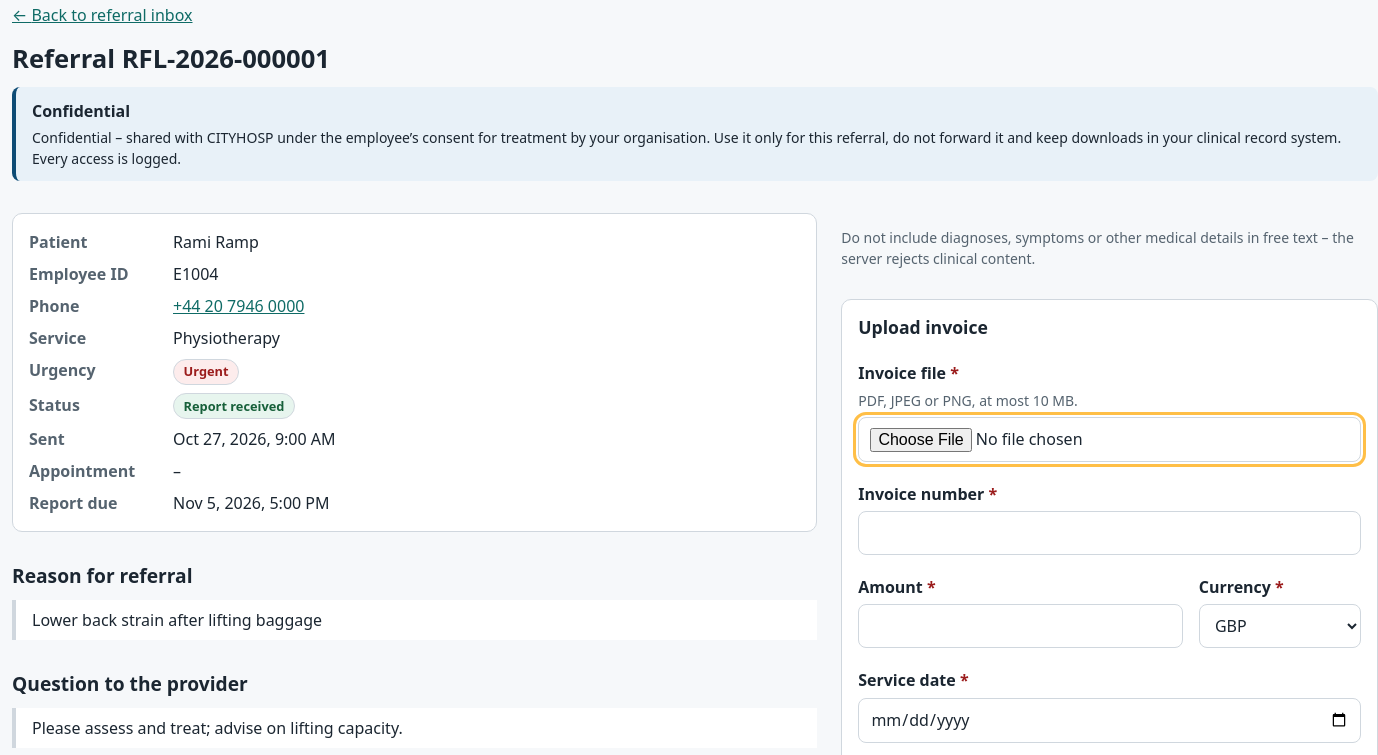
Test: referral detail › uploads an invoice with amount, currency and service date
Earlier steps of the test are not shown.
In the field labelled "Invoice number *": (1110, 533) [858,511,1361,555], type "INV-2026-77"
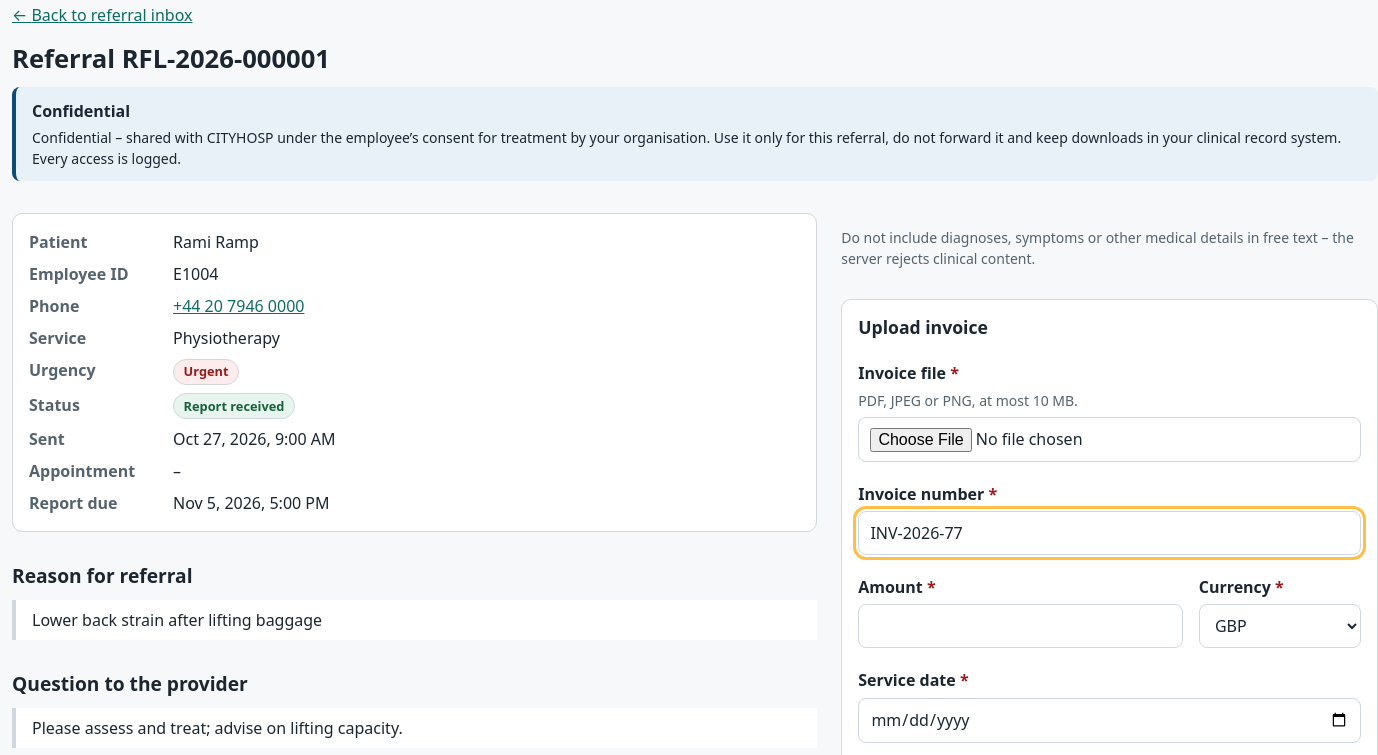
In the field labelled "Amount *": (1020, 626) [858,604,1183,648], type "420.5"
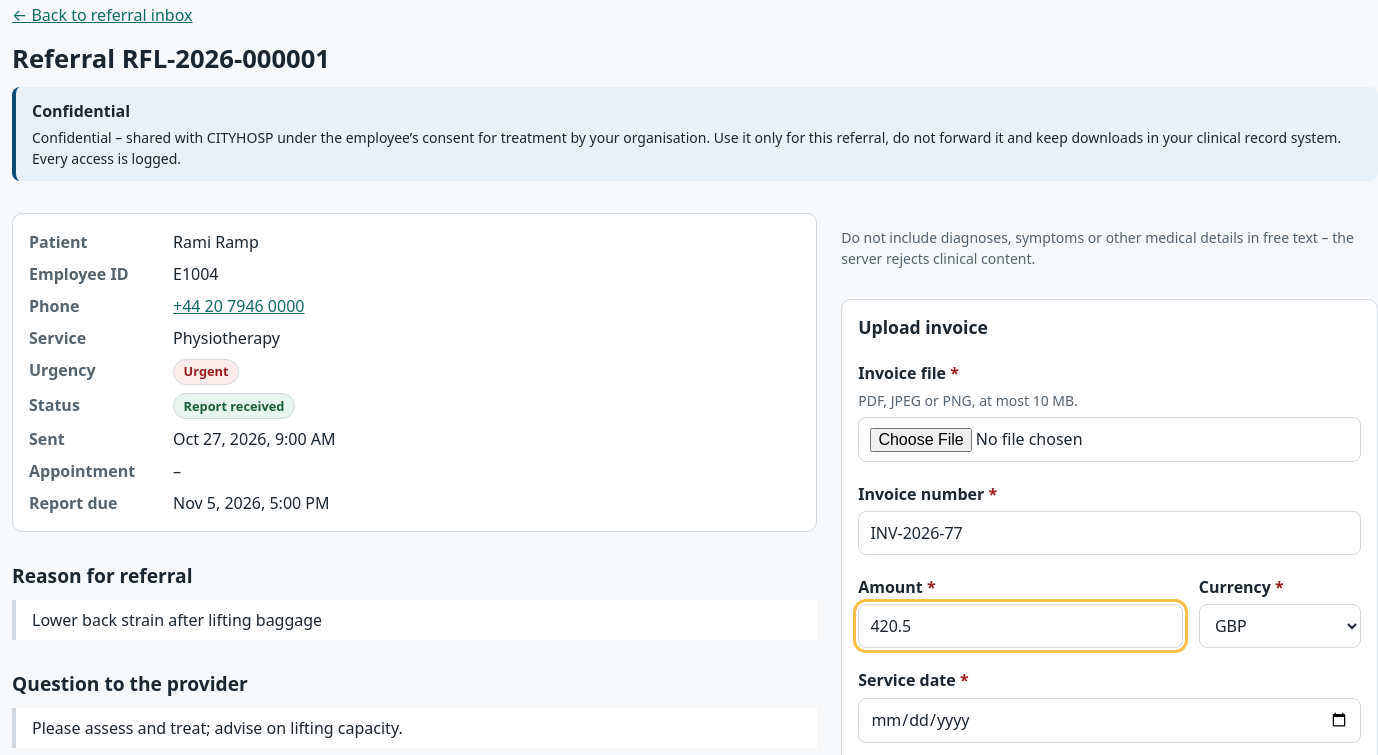
Select "AED" in the dropdown labelled "Currency *": (1280, 626) [1199,604,1361,648]
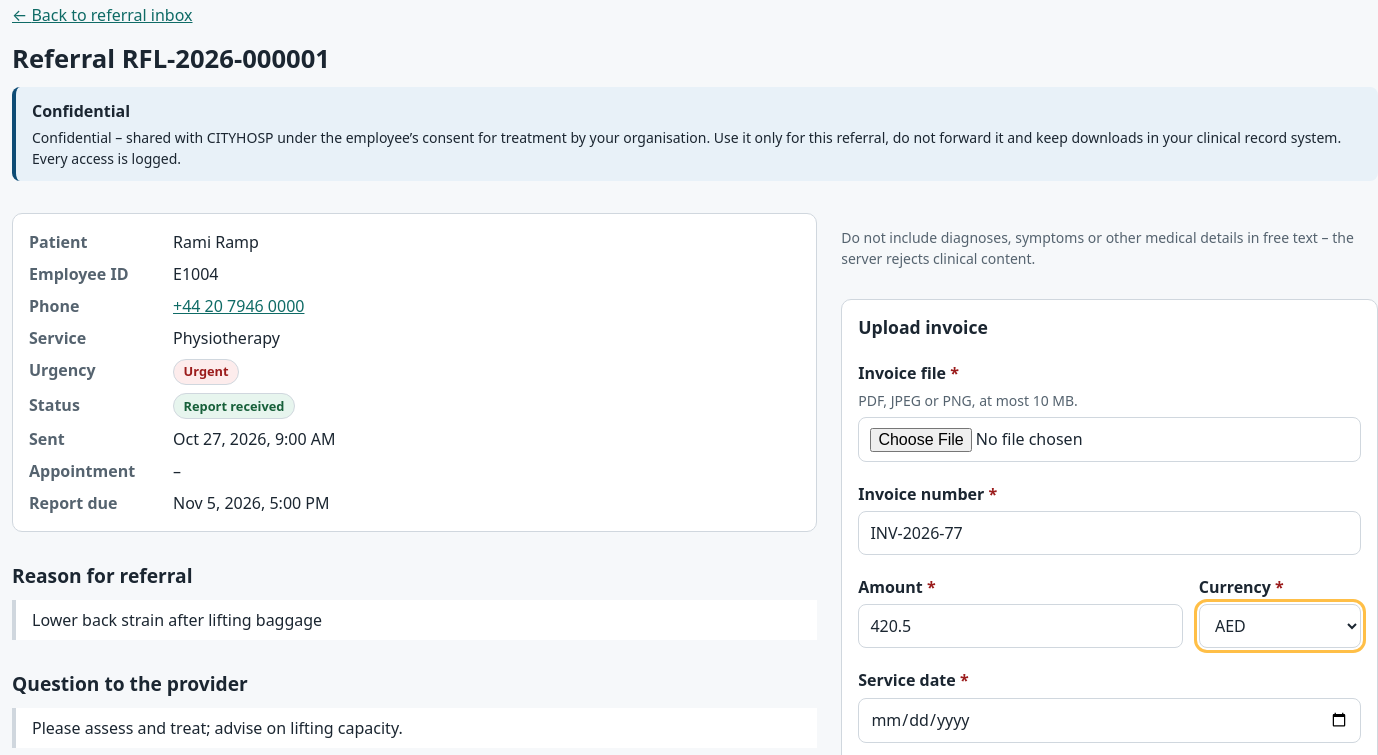
In the date field labelled "Service date *": (1110, 720) [858,698,1361,743], type "2026-10-20"
(page scrolled)
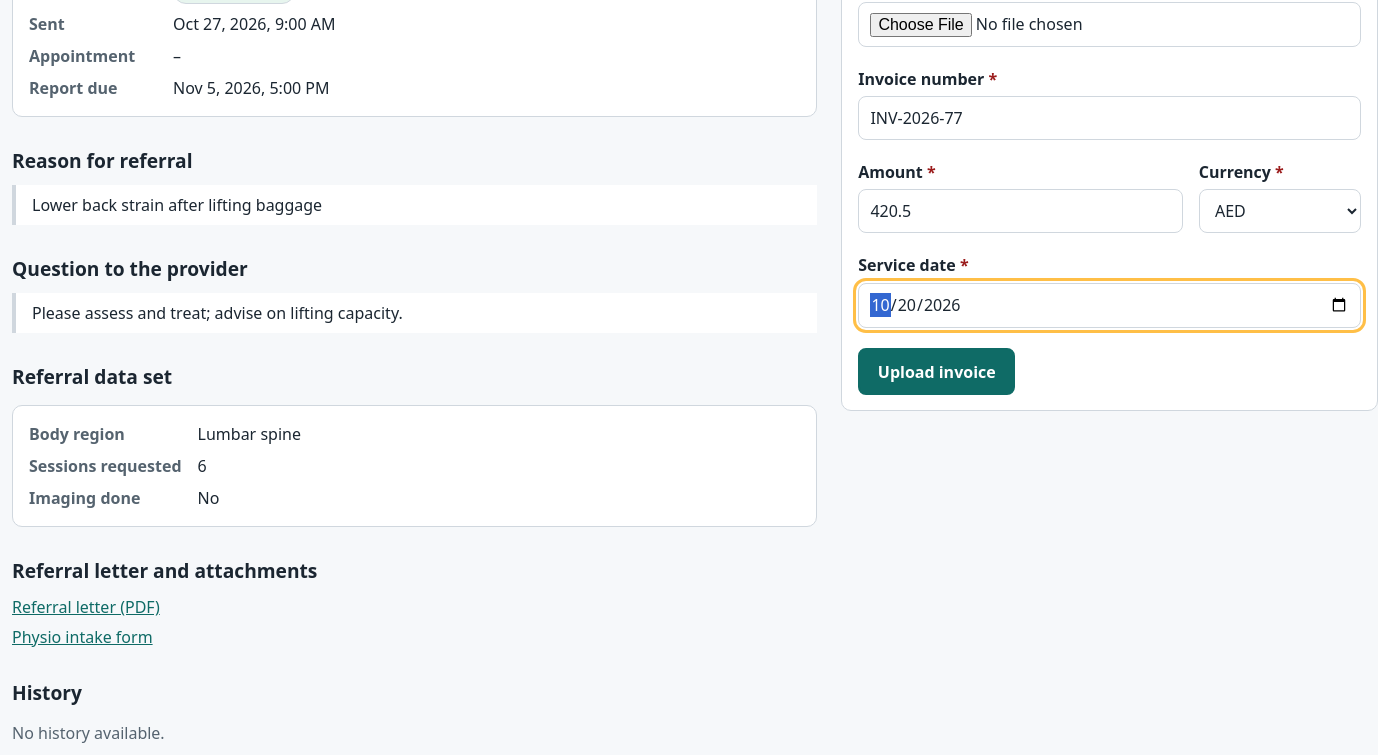
Click the button "Upload invoice": (937, 372) [858,348,1015,395]
(page scrolled)
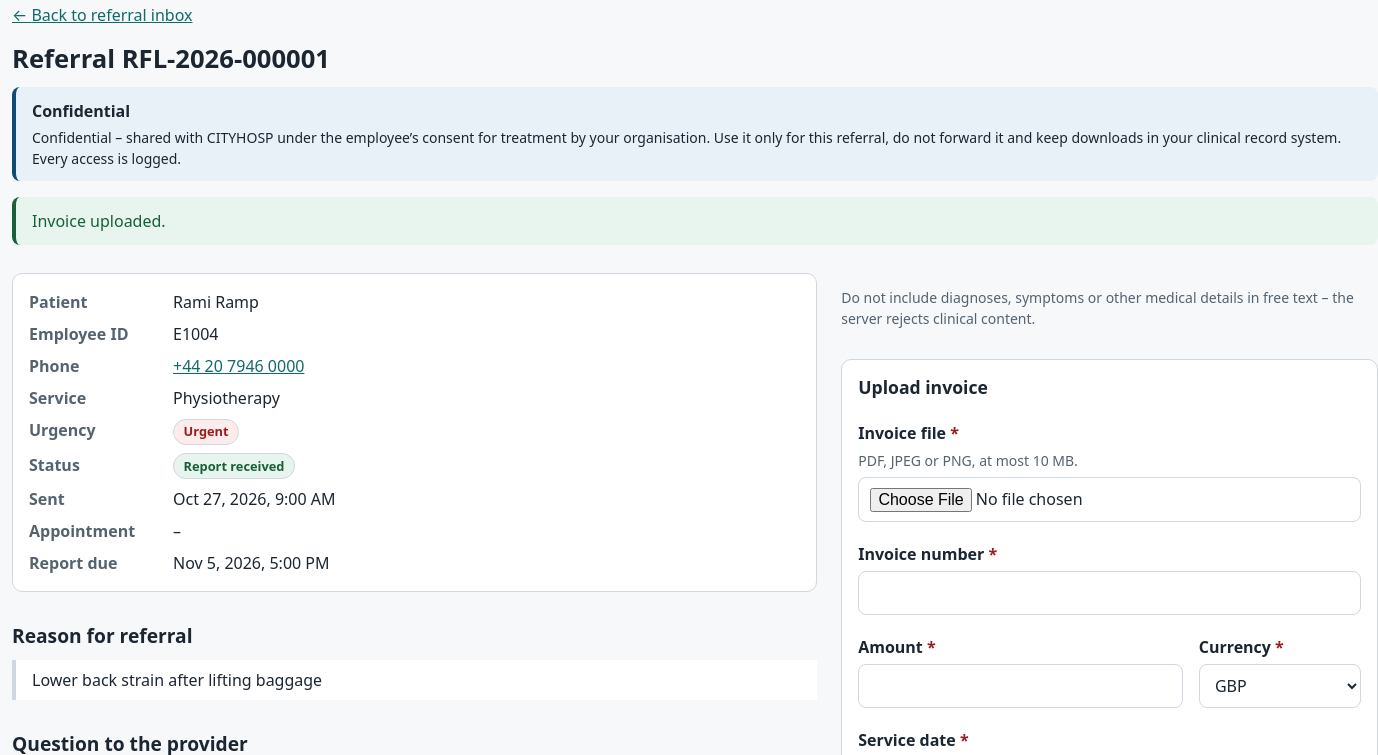
Now the text "Invoice uploaded." is shown, box [12,197,1377,245]
